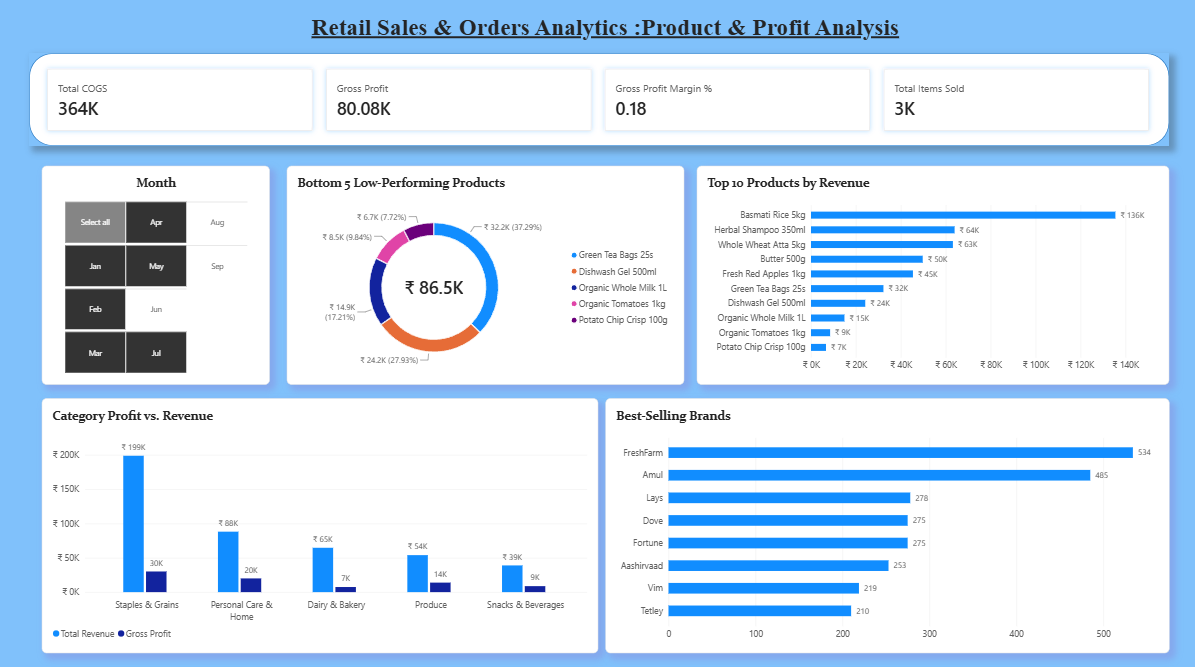

This screenshot's page, from the dashboard's own definition file:
{"tool":"powerbi","page":{"name":"Product & Profit Analysis","canvas":[1920,1080],"ordinal":1},"visuals":[{"type":"shape","box":[50.1,89.7,1824,148.2],"z":0},{"type":"cardVisual","fields":{"Data":["_Measures.Total COGS","_Measures.Gross Profit","_Measures.Gross Profit Margin %","_Measures.Total Items Sold"]},"box":[68.9,104.3,1786.4,121],"z":1000},{"type":"barChart","title":"Top 10 Products by Revenue","fields":{"Category":["RAW_Products.Product_Name"],"Y":["_Measures.Total Revenue"]},"box":[1118,270,756,350],"z":2000},{"type":"donutChart","title":"Bottom 5 Low-Performing Products","fields":{"Category":["RAW_Products.Product_Name"],"Y":["_Measures.Total Revenue"]},"box":[462,270,636,350],"z":3000},{"type":"clusteredColumnChart","title":"Category Profit vs. Revenue","fields":{"Category":["RAW_Products.Category"],"Y":["_Measures.Total Revenue","_Measures.Gross Profit"]},"box":[70.5,642.8,890,408],"z":4000},{"type":"barChart","title":"Best-Selling Brands","fields":{"Category":["RAW_Products.Brand"],"Y":["_Measures.Total Items Sold"]},"box":[972,642,902,408],"z":5000},{"type":"slicer","title":"Month","fields":{"Values":["Dim_Date.Month Name"]},"box":[69.8,270.3,364.5,350.6],"z":6000},{"type":"textbox","box":[69.8,26.2,1803.5,125.6],"z":7000},{"type":"shape","box":[50.6,7,430.8,75],"z":8000},{"type":"pageNavigator","box":[71,12.5,392.4,62.8],"z":9000}]}

Visuals, with their boxes in screenshot pixels (x1, y1, x2, y2), scaled from the page's 1920x1080 canvas onto the 1195x667 screenshot:
shape: (31,55,1166,147)
cardVisual - _Measures.Total COGS x _Measures.Gross Profit: (43,64,1155,139)
"Top 10 Products by Revenue" barChart: (696,167,1166,383)
"Bottom 5 Low-Performing Products" donutChart: (288,167,683,383)
"Category Profit vs. Revenue" clusteredColumnChart: (44,397,598,649)
"Best-Selling Brands" barChart: (605,396,1166,648)
"Month" slicer: (43,167,270,383)
textbox: (43,16,1166,94)
shape: (31,4,300,51)
pageNavigator: (44,8,288,47)
